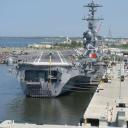Portanaves: (5, 1, 107, 100)
